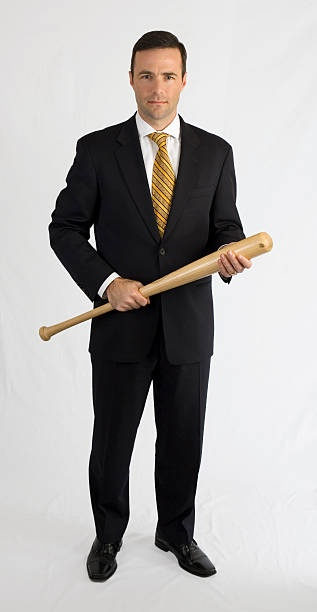bita: (41, 235, 274, 343)
